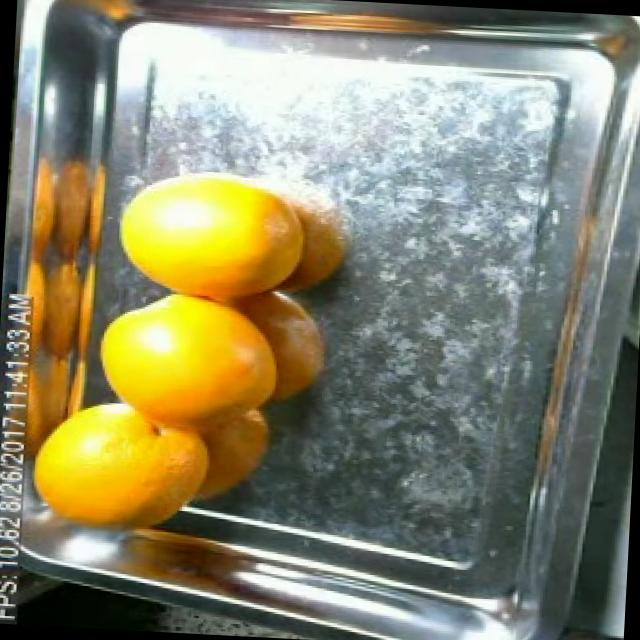Fruit: (97, 150, 299, 314)
